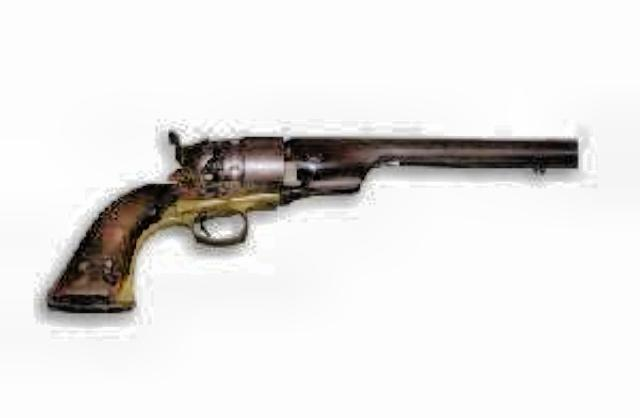pistol: (41, 125, 576, 314)
